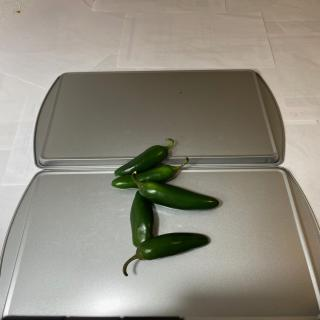Chilli: (111, 138, 220, 276)
Tomato: (122, 232, 211, 277), (130, 172, 220, 211), (111, 157, 189, 190), (114, 138, 174, 177), (130, 190, 154, 248)
